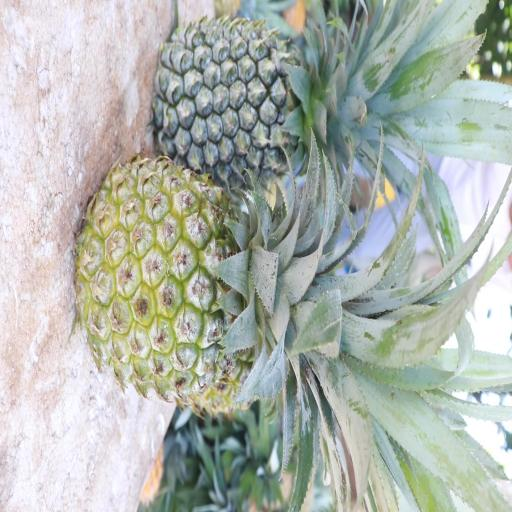------------------------------: (71, 148, 360, 400)
